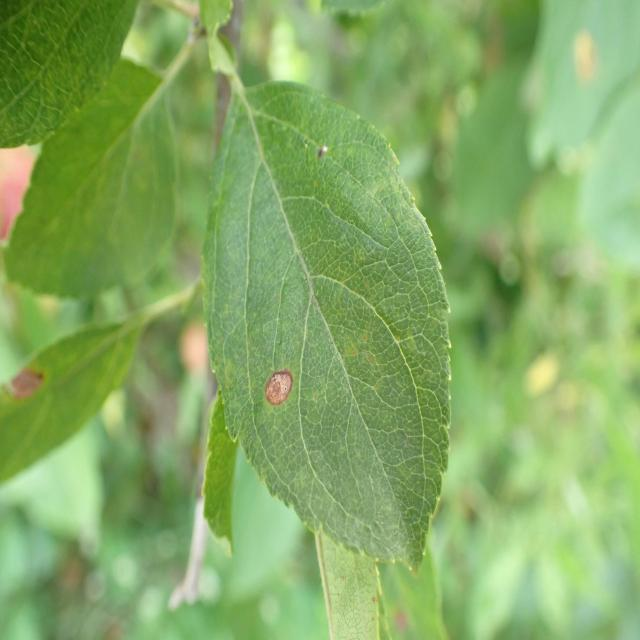Black Rot: (256, 332, 296, 446), (0, 360, 59, 413)
